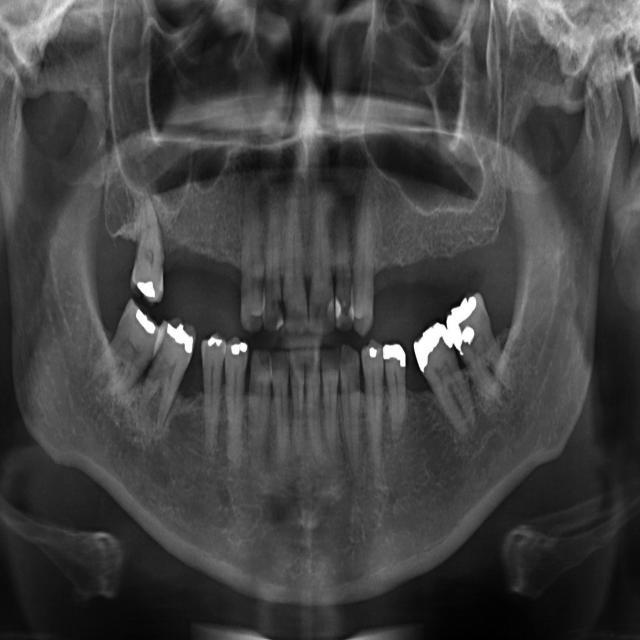3M ESPE Implant: (129, 177, 169, 310)
AGS Medikal Implant: (402, 313, 490, 450)
Anthogyr Implant: (385, 341, 409, 446)
Bicon Implant: (360, 336, 387, 480)
BioHorizons Implant: (339, 340, 363, 488)
BioLife Implant: (320, 345, 340, 460)
Biomet 3i Implant: (302, 345, 328, 472)
Blue Sky Bio Implant: (290, 346, 304, 458)
Camlog Implant: (270, 347, 290, 463)
Caries: (334, 184, 352, 333)
Composite filling: (244, 346, 274, 479)
Cowellmedi Implant: (218, 333, 250, 470)
Crown: (189, 327, 227, 460)
Dentis Implant: (159, 392, 159, 394)
Dentium Implant: (112, 372, 112, 373)
Frontier Implant: (238, 156, 267, 337)
Hiossen Implant: (352, 156, 375, 340)
Implant: (275, 180, 309, 337)
Implant Direct: (254, 179, 284, 336)
Keystone Dental Implant: (309, 176, 337, 337)
Neoss Implant: (433, 282, 530, 418)
